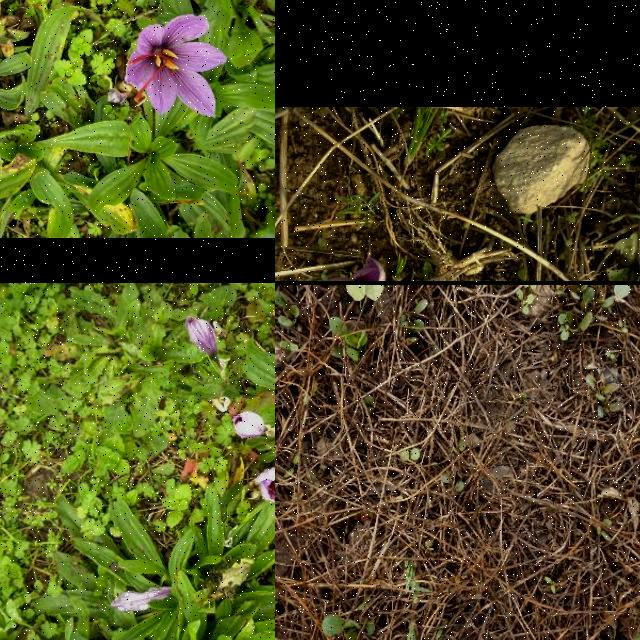flower: (123, 14, 229, 120), (305, 256, 416, 281), (185, 316, 219, 362), (232, 409, 266, 438), (257, 466, 275, 503)
